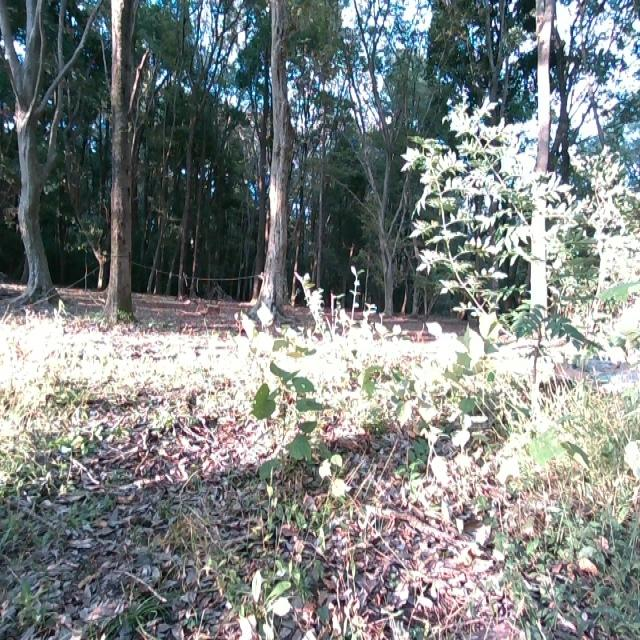bush: (409, 85, 640, 543), (274, 271, 459, 420)
tree: (0, 0, 61, 301), (251, 0, 304, 322), (102, 0, 139, 330), (528, 0, 552, 341)
